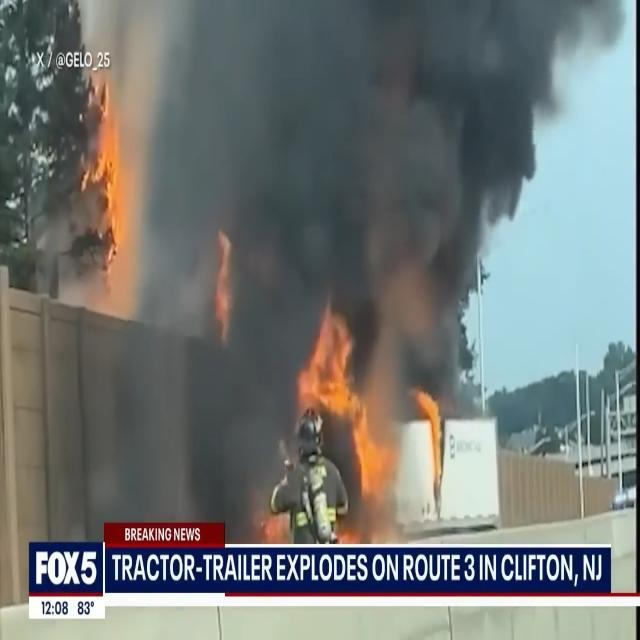fire: (298, 300, 374, 420), (82, 92, 132, 255), (410, 370, 450, 500), (337, 400, 387, 496), (215, 232, 242, 344)
